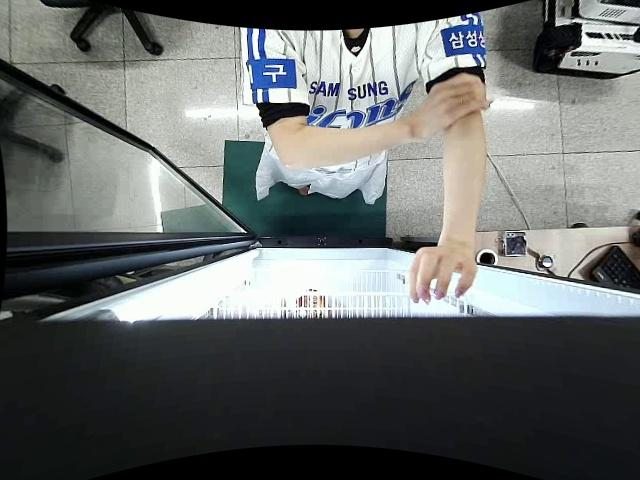00_hand: (408, 76, 497, 139), (407, 245, 478, 305)
